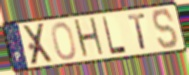H: (72, 16, 107, 61)
L: (101, 15, 128, 56)
O: (50, 20, 77, 61)
S: (152, 7, 180, 51)
T: (126, 12, 148, 51)
X: (22, 21, 55, 68)
